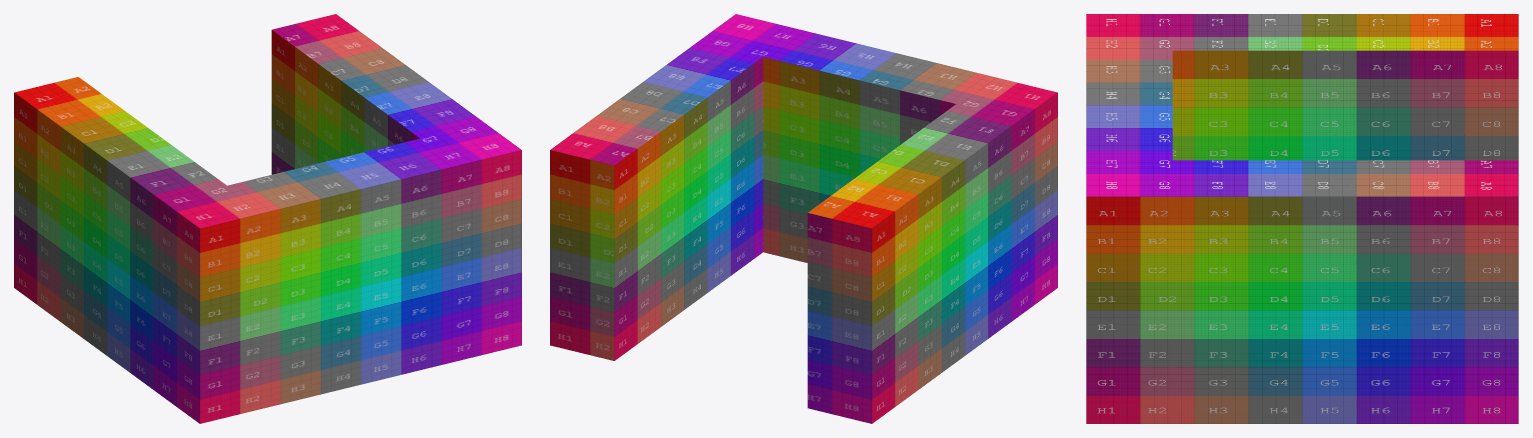
The model's file is 1-way.fbx.
3 renders of one model, left to right at view 1: azimuth 30°, elevation 25°; view 2: azimuth 150°, elevation 25°; view 3: azimuth 270°, elevation 25°, orthographic. The views are drawn at different scales.
Visible parts, largest first — view 1: 1-way; view 2: 1-way; view 3: 1-way.
Boxes of the visible parts, left/top/right/bottom form: 1-way: left=14, top=14, right=521, bottom=423; 1-way: left=550, top=14, right=1057, bottom=423; 1-way: left=1086, top=14, right=1518, bottom=423.
Size of the model in its own units: 500 by 290 by 500.
